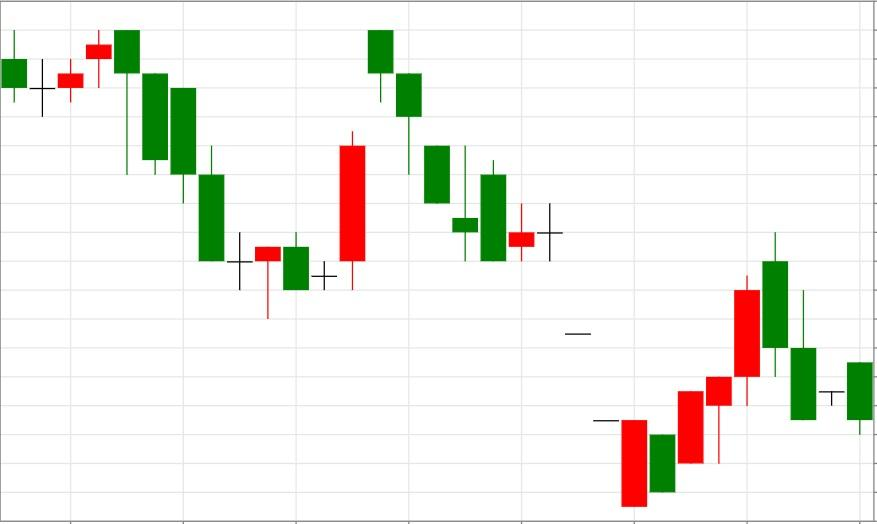three_black_crows_fall: (254, 29, 451, 319)
